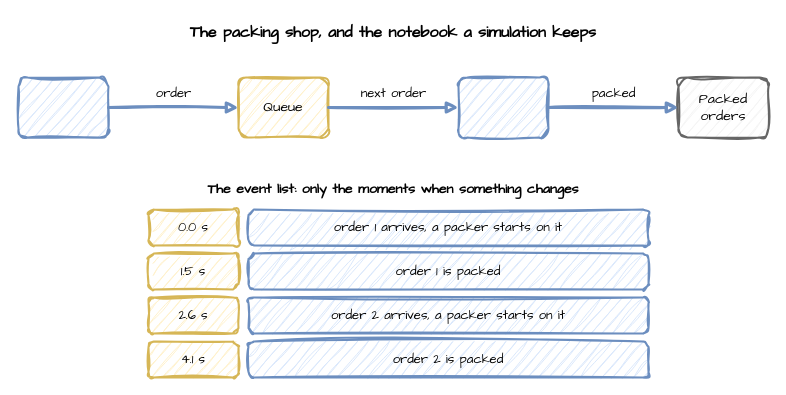
Some shapes in this 786 by 395 pixel diagram are drawn without their labels. Here are the shapes that lost their labels. From the top down, the centre of each, then its label:
At (63,107): "Orders arrive".
At (503,107): "Packers".
